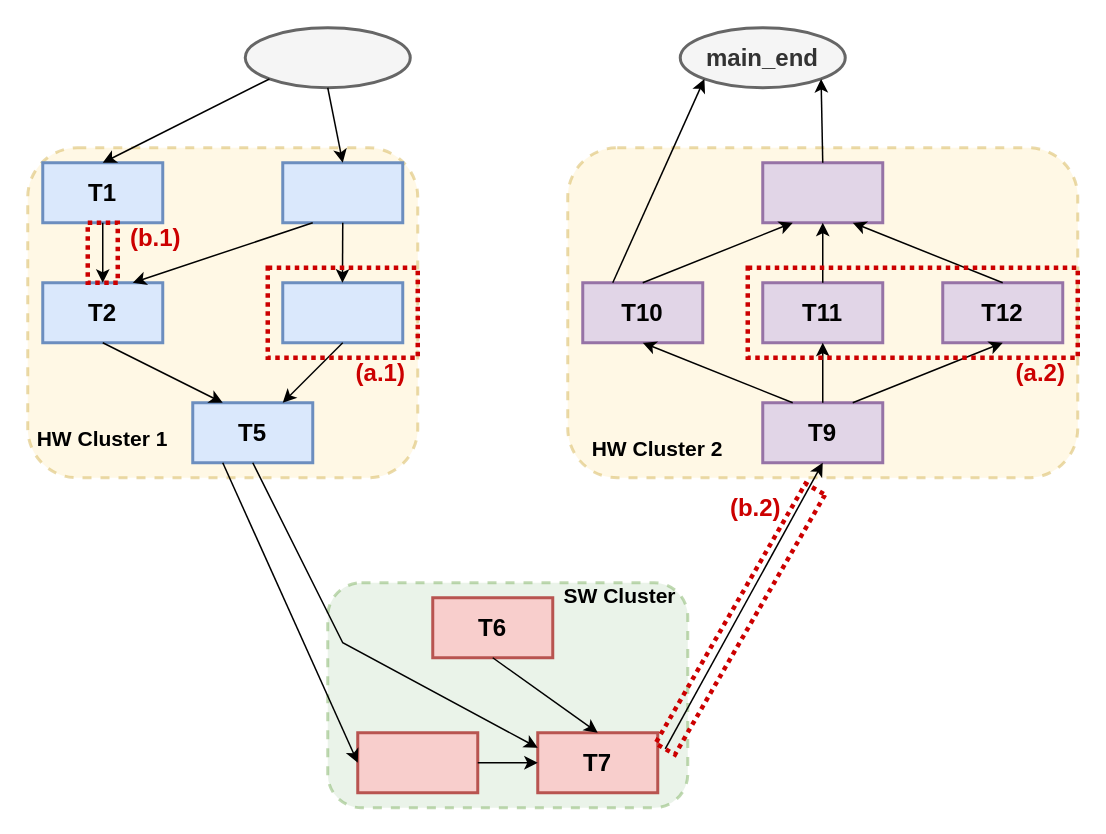
Image size: 1106x834. Some labels were removed from this diagram. The shapes that lost their labels are listed below. From the top down, each one's centre as x and y in pixels, then its label:
At point 327,57: "main_begin".
At point 342,192: "T3".
At point 822,192: "T13".
At point 342,312: "T4".
At point 417,762: "T8".
